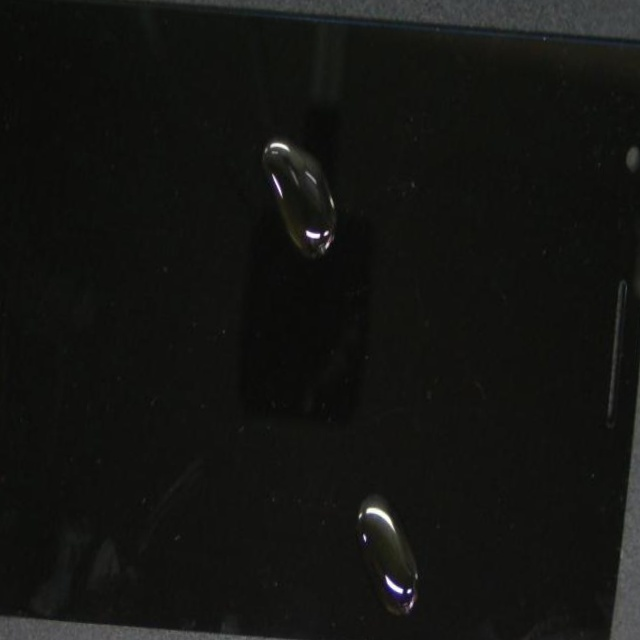oil: (123, 186, 607, 640), (123, 112, 542, 403)
